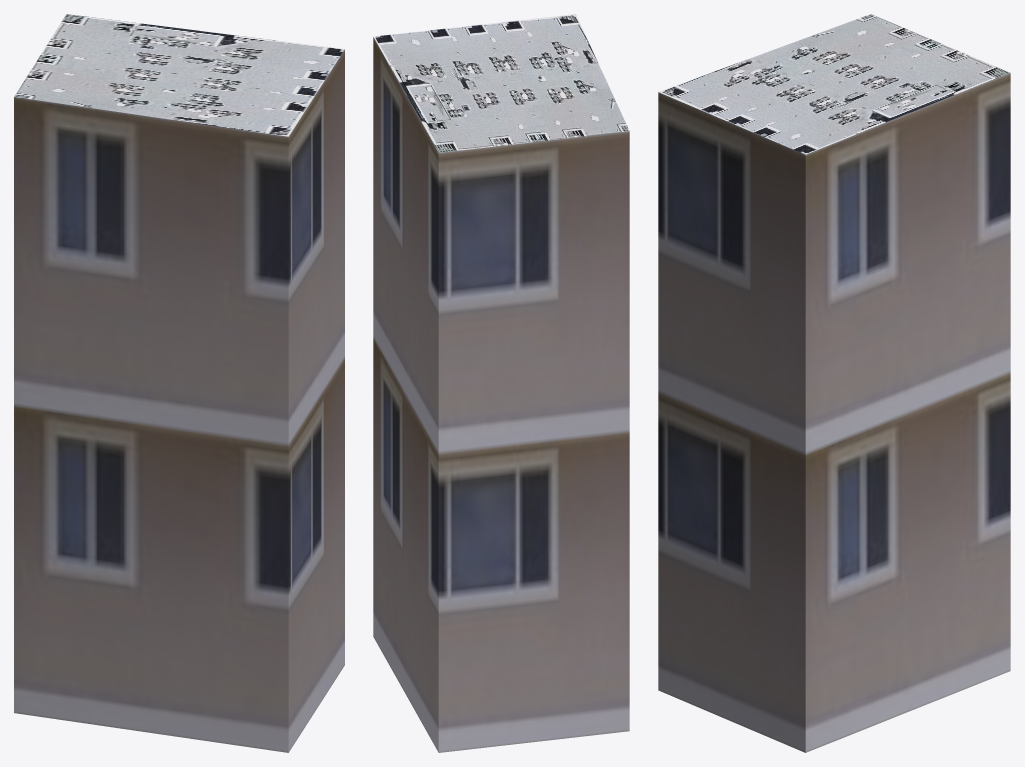
The model's file is ResTex__2812.fbx.
3 renders of one model, left to right at view 1: azimuth 30°, elevation 25°; view 2: azimuth 150°, elevation 25°; view 3: azimuth 270°, elevation 25°, orthographic. The views are drawn at different scales.
Parts seen in each view (by area): view 1: CityEngineMaterial_21_m, CityEngineMaterial_2_m; view 2: CityEngineMaterial_21_m, CityEngineMaterial_2_m; view 3: CityEngineMaterial_21_m, CityEngineMaterial_2_m.
Part boxes in pixels (x1,y1,x2,y2): CityEngineMaterial_21_m: [14, 49, 344, 752]; CityEngineMaterial_2_m: [14, 14, 344, 136]; CityEngineMaterial_21_m: [373, 37, 629, 752]; CityEngineMaterial_2_m: [373, 14, 629, 152]; CityEngineMaterial_21_m: [658, 73, 1010, 752]; CityEngineMaterial_2_m: [658, 14, 1010, 154].
Bounding box in the file's own units: 3.03 × 6 × 3.2.
Materials: 2 (2 with a texture image).
